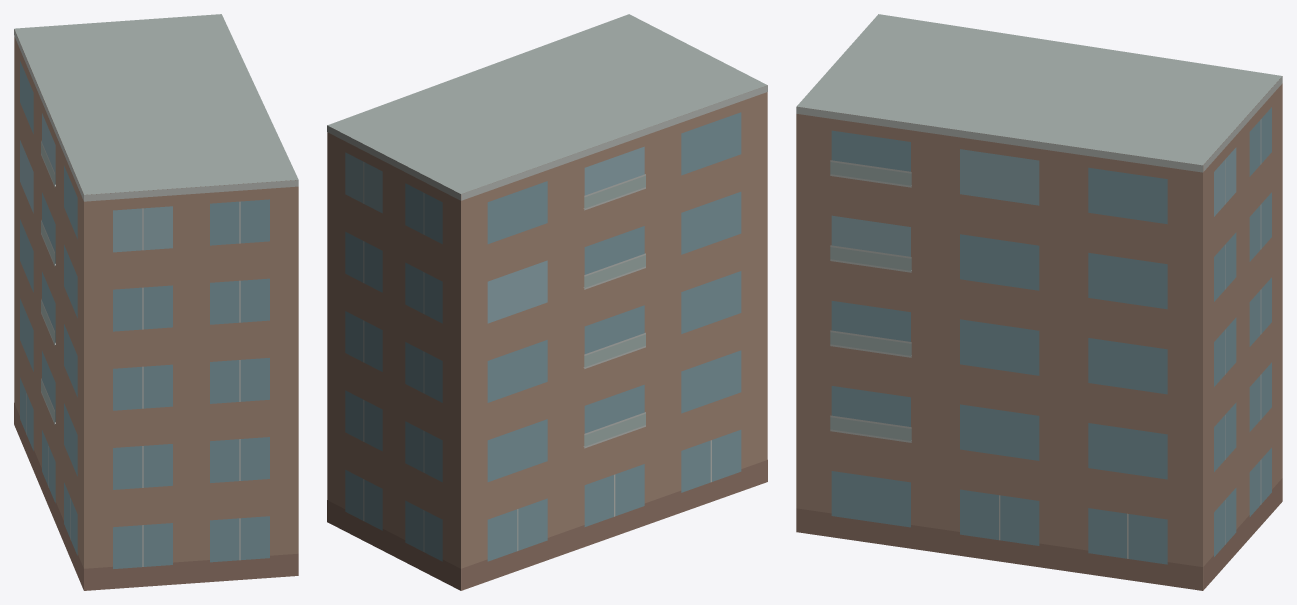
The model's file is survey-upis-32853511.glb.
3 renders of one model, left to right at view 1: azimuth 30°, elevation 25°; view 2: azimuth 150°, elevation 25°; view 3: azimuth 270°, elevation 25°, orthographic. The views are drawn at different scales.
Visible parts, largest first — view 1: survey-upis-32853511.tmp; view 2: survey-upis-32853511.tmp; view 3: survey-upis-32853511.tmp.
Boxes of the visible parts, bbox=[...] form: survey-upis-32853511.tmp: bbox=[14, 14, 298, 590]; survey-upis-32853511.tmp: bbox=[327, 14, 767, 590]; survey-upis-32853511.tmp: bbox=[796, 14, 1282, 590].
Size of the model in its own units: 11 by 14.4 by 14.92.
